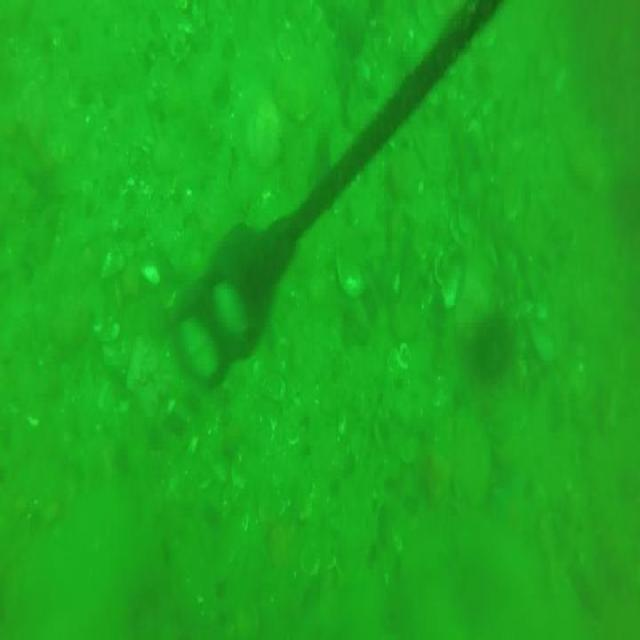echinus: (471, 314, 515, 384)
scallop: (276, 58, 326, 126), (246, 98, 286, 175), (335, 254, 369, 302), (436, 253, 464, 308), (92, 310, 122, 348), (100, 243, 126, 283)
